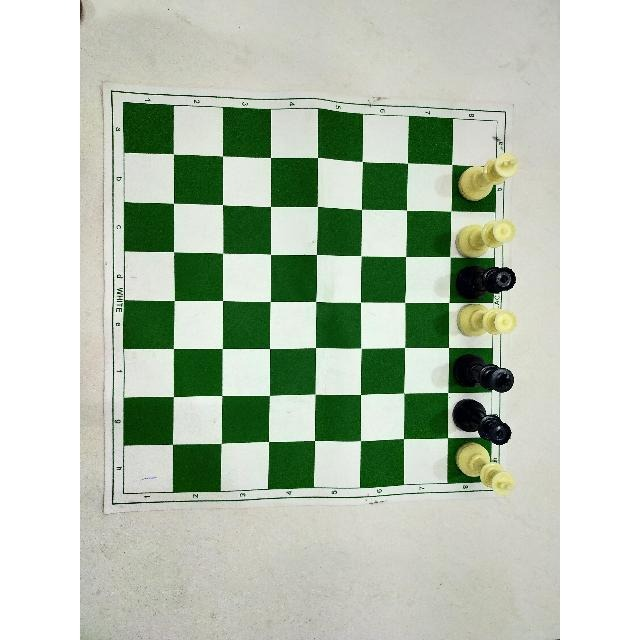black-king: (450, 351, 516, 395)
black-queen: (451, 398, 513, 446), (454, 264, 518, 302)
white-king: (450, 148, 522, 207), (453, 440, 517, 496)
white-queen: (452, 216, 517, 261), (454, 300, 518, 342)
